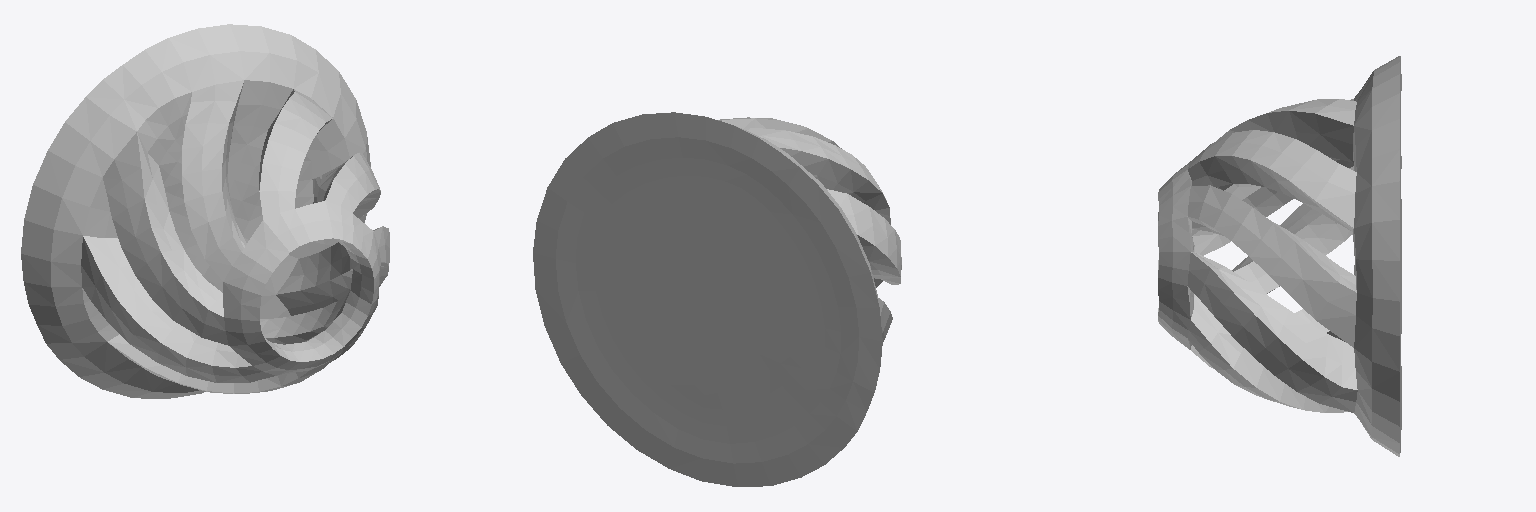
File: bamboo_pen.obj
3 renders of one model, left to right at view 1: azimuth 30°, elevation 25°; view 2: azimuth 150°, elevation 25°; view 3: azimuth 270°, elevation 25°, orthographic.
Size of the model in its own units: 40.17 by 40.14 by 24.21.